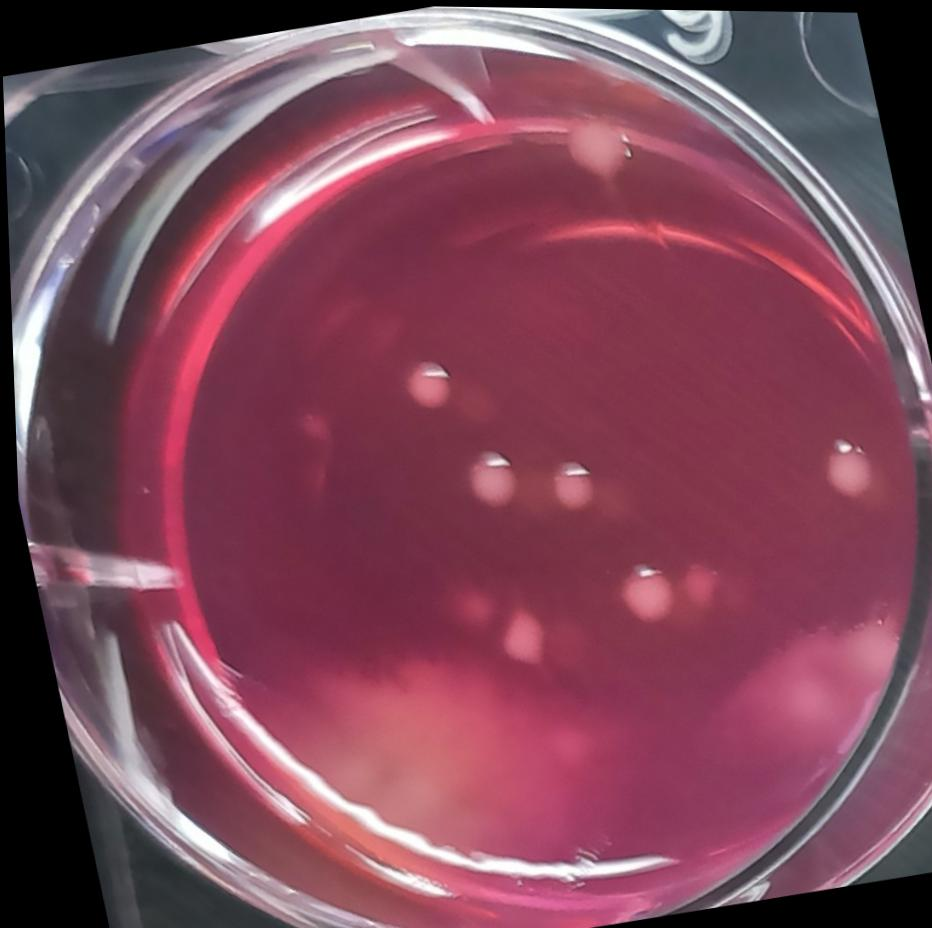vproteolyticus: (238, 614, 625, 928), (701, 586, 931, 775), (539, 66, 666, 214), (371, 329, 477, 440), (596, 543, 703, 648), (800, 408, 895, 526), (453, 430, 547, 532), (536, 439, 630, 532)
